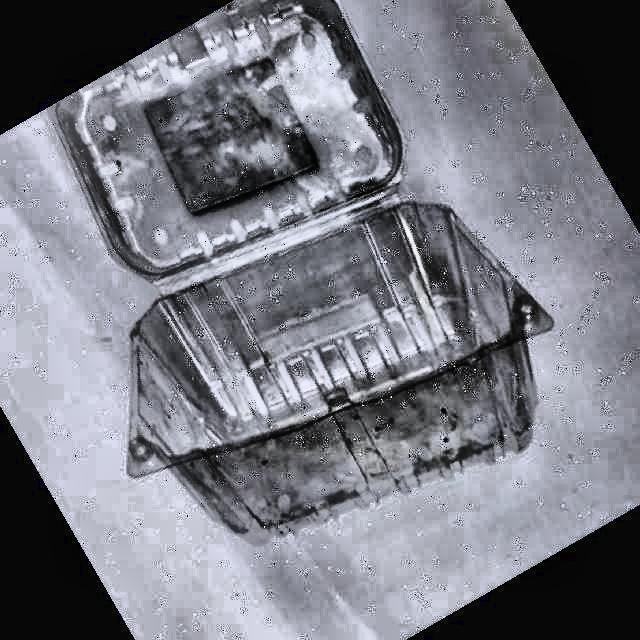plastic: (54, 0, 551, 534)
